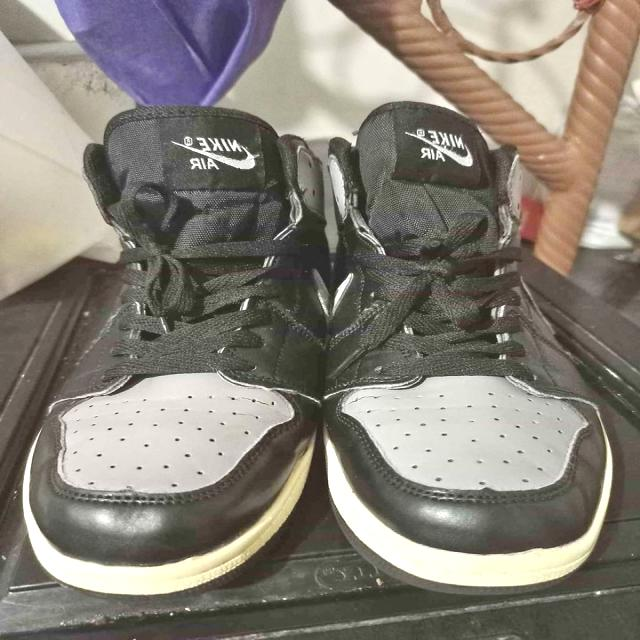nike_fake_jordan: (309, 97, 616, 600), (17, 105, 328, 600)
